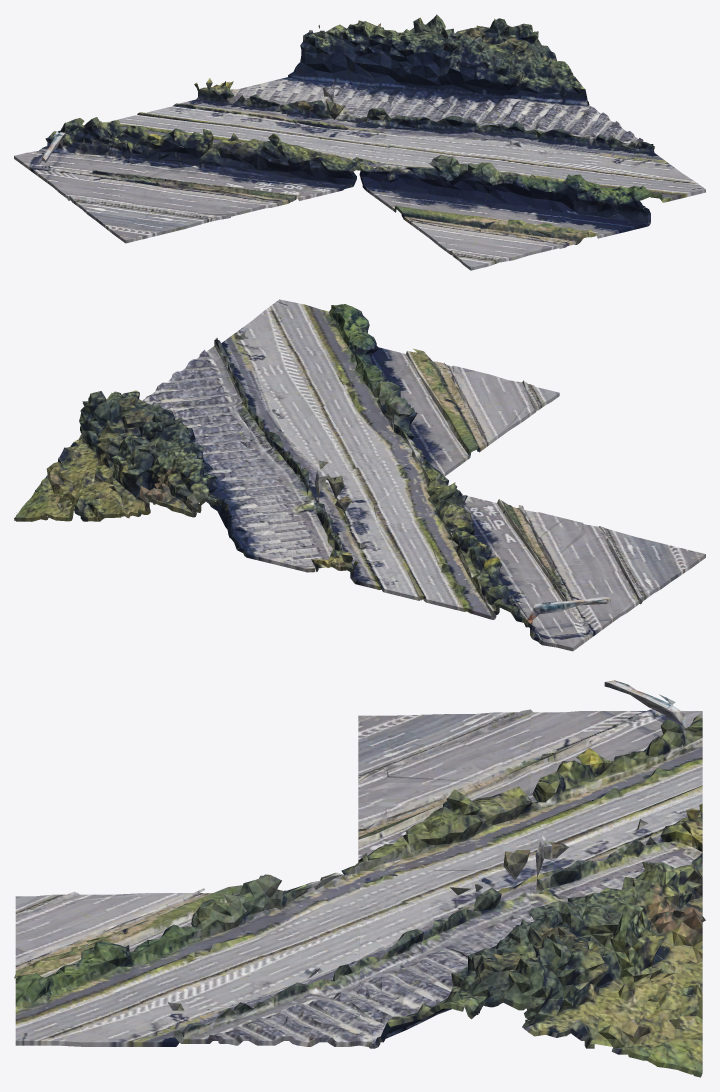
File: Split4.fbx
3 renders of one model, top to bottom at view 1: azimuth 30°, elevation 25°; view 2: azimuth 150°, elevation 25°; view 3: azimuth 270°, elevation 25°, orthographic. The views are drawn at different scales.
Parts seen in each view (by area): view 1: BuildingMesh-00181; view 2: BuildingMesh-00181; view 3: BuildingMesh-00181.
Part boxes in pixels (box(x1,y1,x2,y2)): BuildingMesh-00181: box(14, 14, 705, 270); BuildingMesh-00181: box(14, 299, 705, 651); BuildingMesh-00181: box(14, 680, 705, 1077).
Bounding box in the file's own units: 195 × 29.81 × 161.
4 materials, 4 textured.
